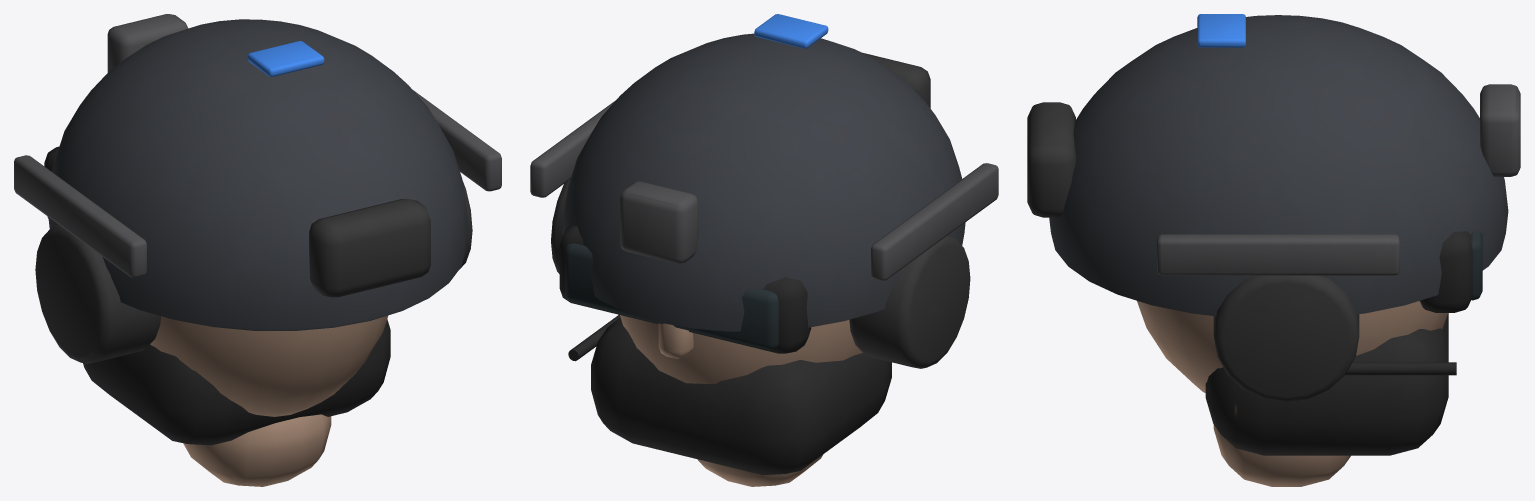
Rendered from SM_OperatorBHead.fbx.
3 renders of one model, left to right at view 1: azimuth 30°, elevation 25°; view 2: azimuth 150°, elevation 25°; view 3: azimuth 270°, elevation 25°, orthographic. The views are drawn at different scales.
Parts seen in each view (by area): view 1: SM_OperatorBHead; view 2: SM_OperatorBHead; view 3: SM_OperatorBHead.
Boxes of the visible parts, bbox=[...] form: SM_OperatorBHead: bbox=[14, 14, 501, 486]; SM_OperatorBHead: bbox=[530, 14, 998, 486]; SM_OperatorBHead: bbox=[1027, 14, 1520, 486].
Bounding box in the file's own units: 0.269 × 0.306 × 0.3045.
1 material, 1 textured.
